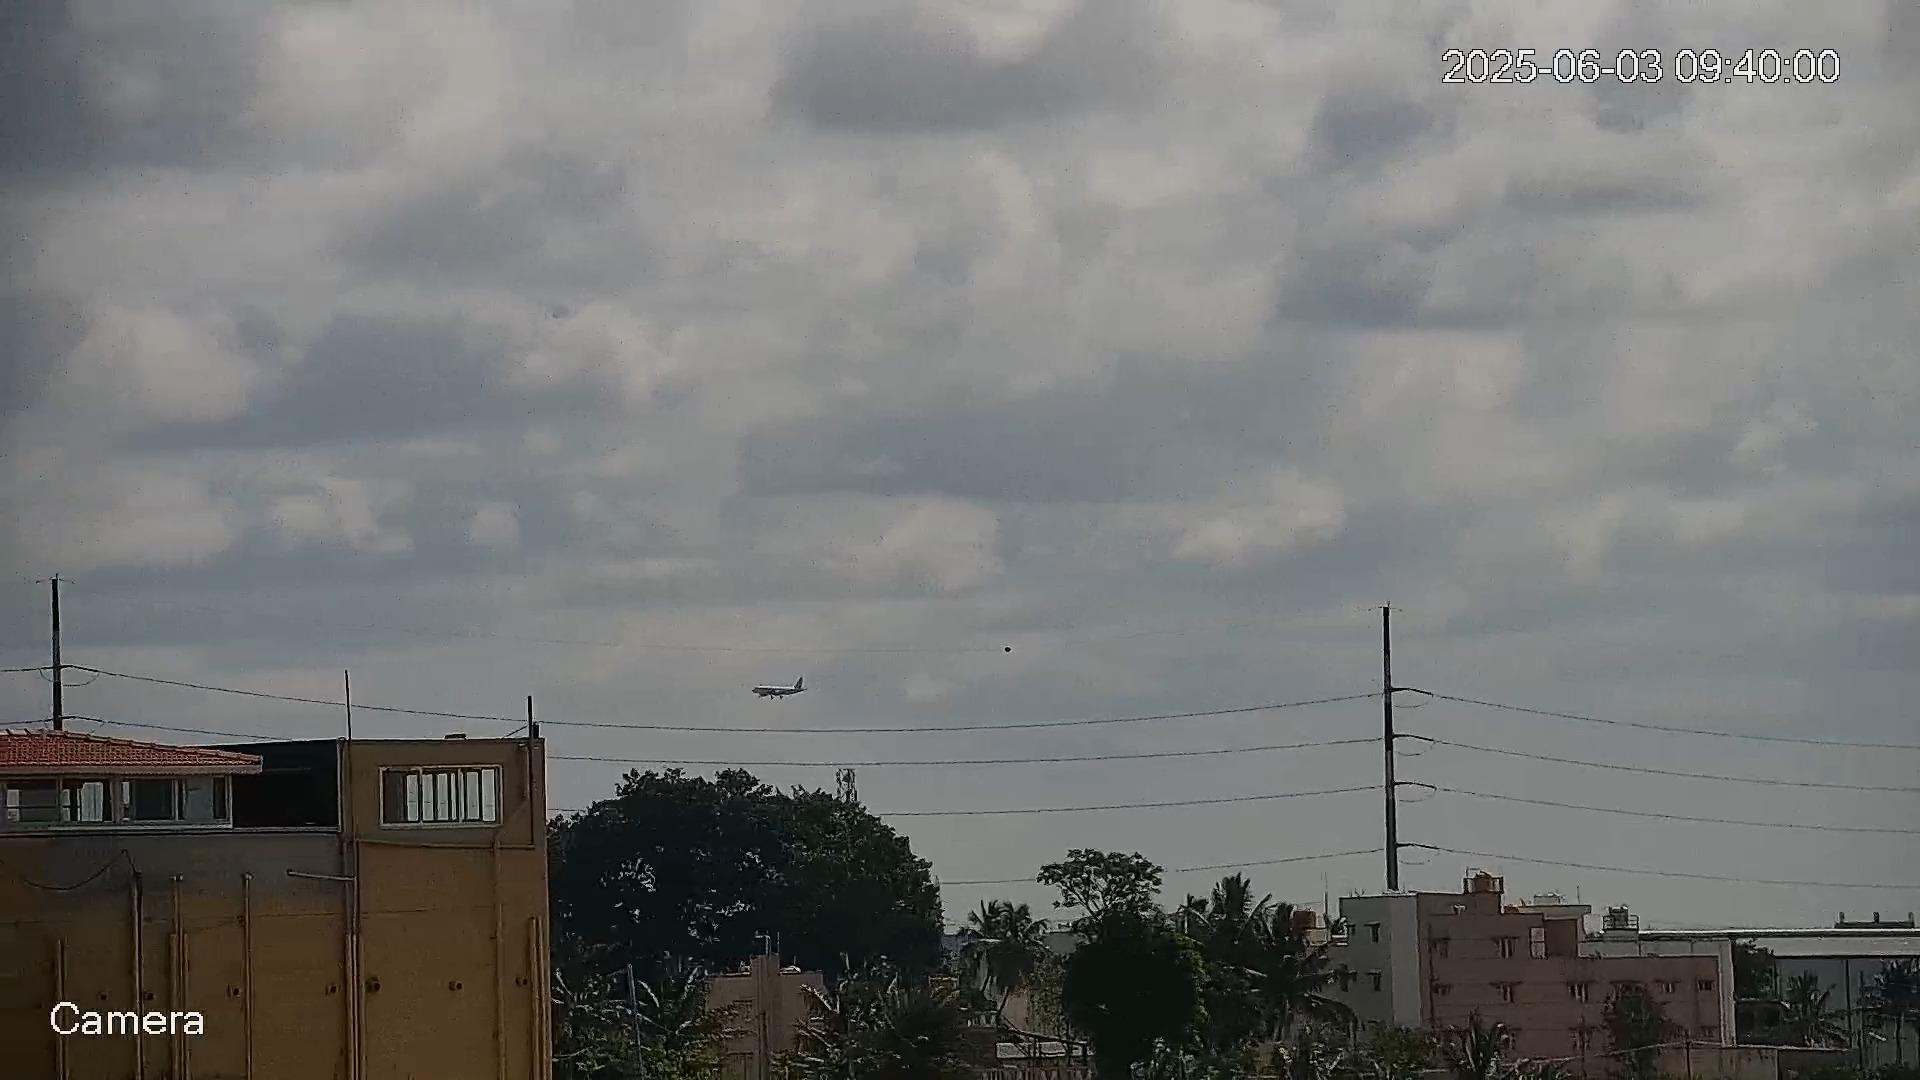Aircraft: (750, 676, 806, 699)
